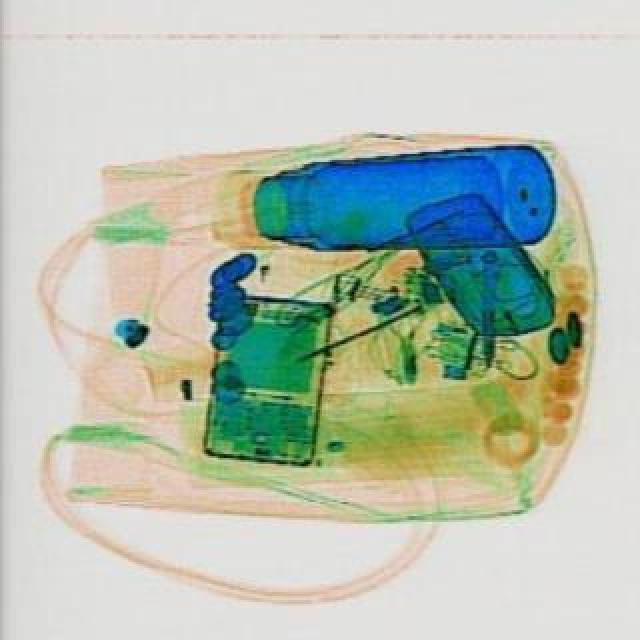knife: (470, 262, 494, 366)
